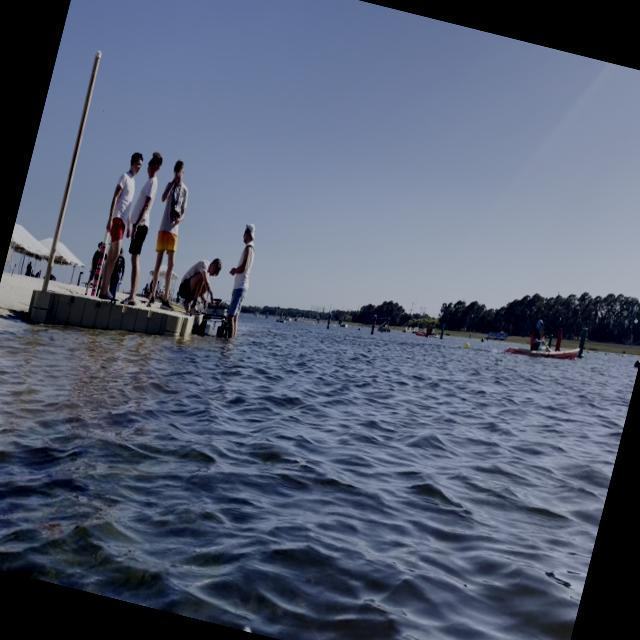buoy: (463, 338, 472, 352), (632, 357, 640, 370), (480, 337, 484, 344)
